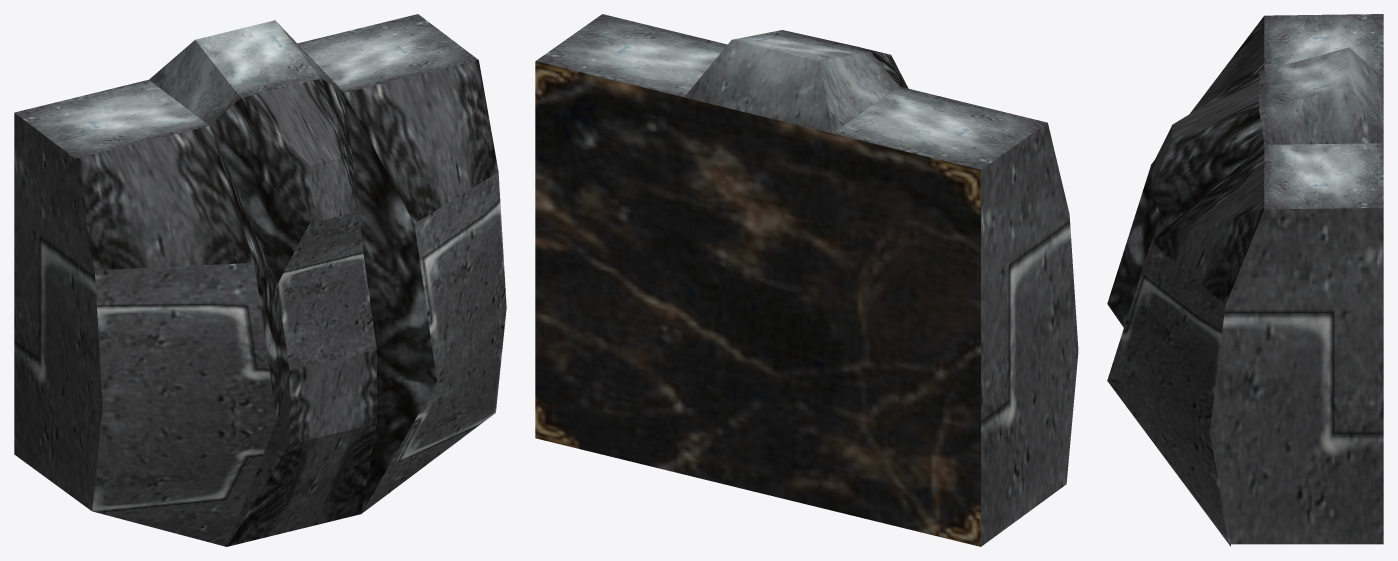
3 renders of one model, left to right at view 1: azimuth 30°, elevation 25°; view 2: azimuth 150°, elevation 25°; view 3: azimuth 270°, elevation 25°, orthographic. The views are drawn at different scales.
Parts seen in each view (by area): view 1: a64; view 2: a64; view 3: a64.
Part boxes in pixels (x1,y1,x2,y2): a64: [14, 14, 506, 546]; a64: [535, 14, 1078, 546]; a64: [1107, 14, 1383, 546].
Bounding box in the file's own units: 762 × 822 × 459.
